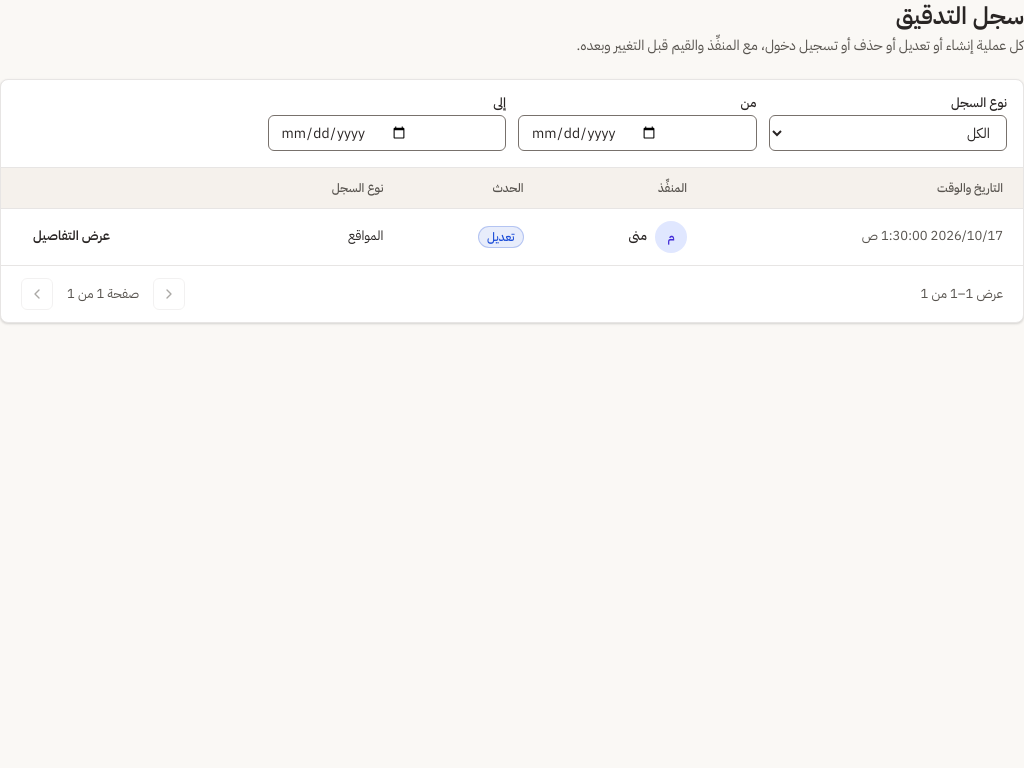
details sheet renders null fields as a dash and nested nulls as JSON text
The image size is (1024, 768).
What coordinates should you click on to do the following:
click the button "عرض التفاصيل"
I would click on:
 (72, 237)
Its box is [21, 221, 122, 253].
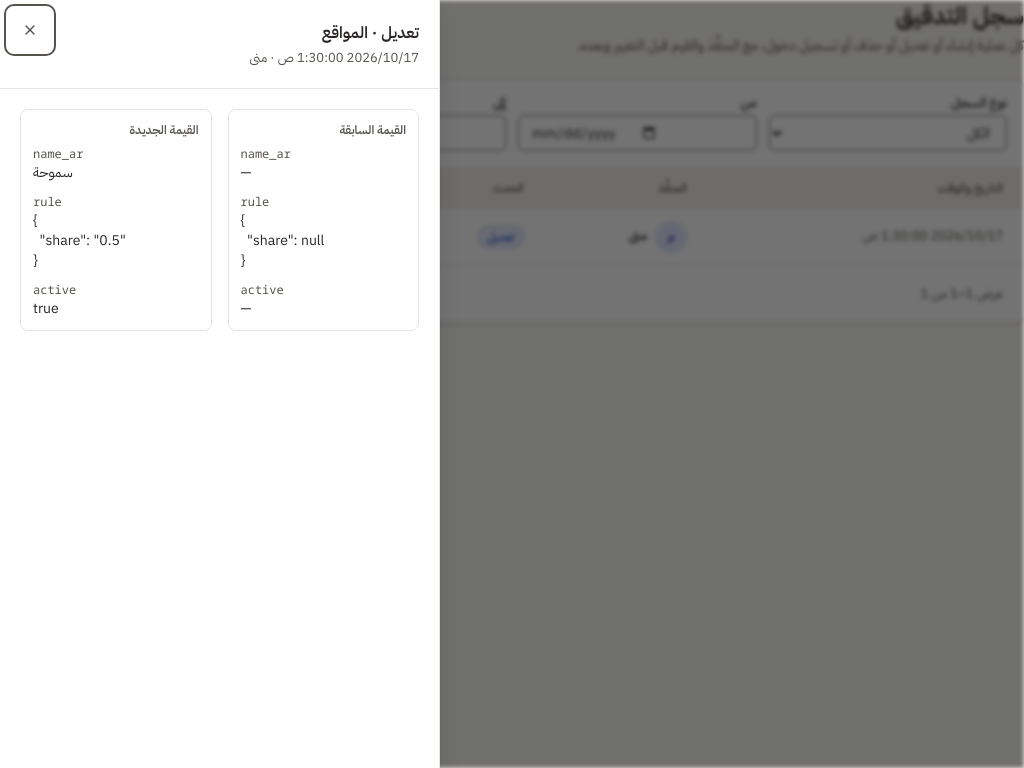
Expected: the text "{ \"share\": null }" is shown, [240, 211, 324, 269]
Expected: the text "—" is shown 2 times, [240, 163, 251, 181]; [240, 299, 251, 317]
Expected: the text "{ \"share\": \"0.5\" }" is shown, [33, 211, 126, 269]
